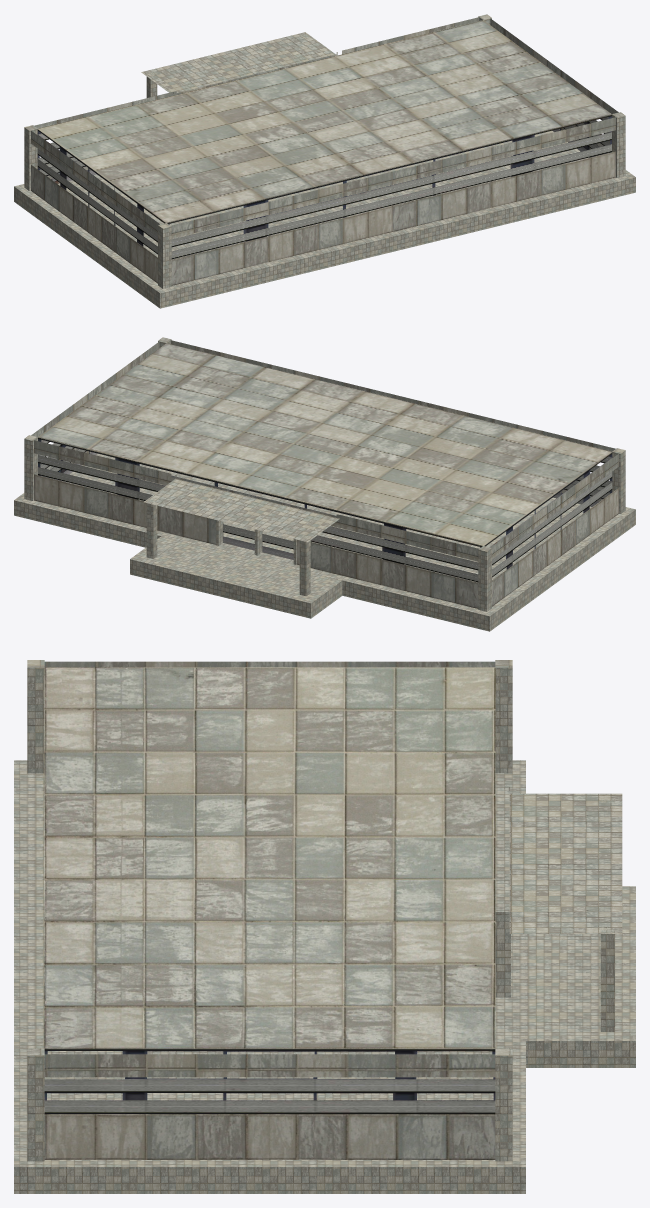
Rendered from BagSS05base_100.fbx.
3 views of the same model, one above another, from view 1: azimuth 30°, elevation 25°; view 2: azimuth 150°, elevation 25°; view 3: azimuth 270°, elevation 25° (orthographic). The views are drawn at different scales.
Parts seen in each view (by area): view 1: baseRoof100, baseMain100, baseFloor100, baseBox100; view 2: baseRoof100, baseFloor100, baseMain100, baseBox100; view 3: baseRoof100, baseFloor100, baseMain100, baseBox100.
Part boxes in pixels (x1,y1,x2,y2): baseRoof100: (38,20,611,222); baseMain100: (31,17,618,285); baseFloor100: (14,14,635,308); baseBox100: (37,114,611,259); baseRoof100: (38,343,611,545); baseFloor100: (14,337,635,631); baseMain100: (31,340,618,608); baseBox100: (38,437,612,582); baseRoof100: (44,667,495,1048); baseFloor100: (14,660,635,1193); baseMain100: (44,661,509,1159); baseBox100: (44,1048,495,1113).
Size of the model in its own units: 43.75 by 6.65 by 28.28.
